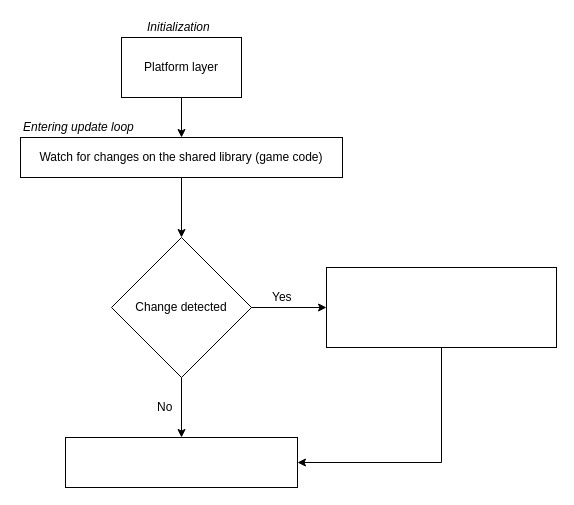
The diagram is 574 pixels wide and 505 high, and some of its shapes have lost their labels. The centre of each missing label's shape, as x and y in pixels:
"Continue with the update loop" belongs at (181,462).
"Refresh current shared library instance" belongs at (441,307).
